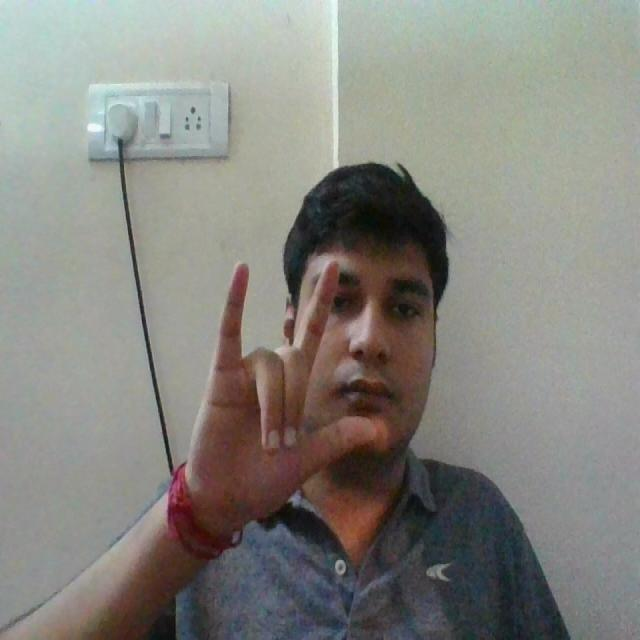I love you: (186, 238, 382, 550)
